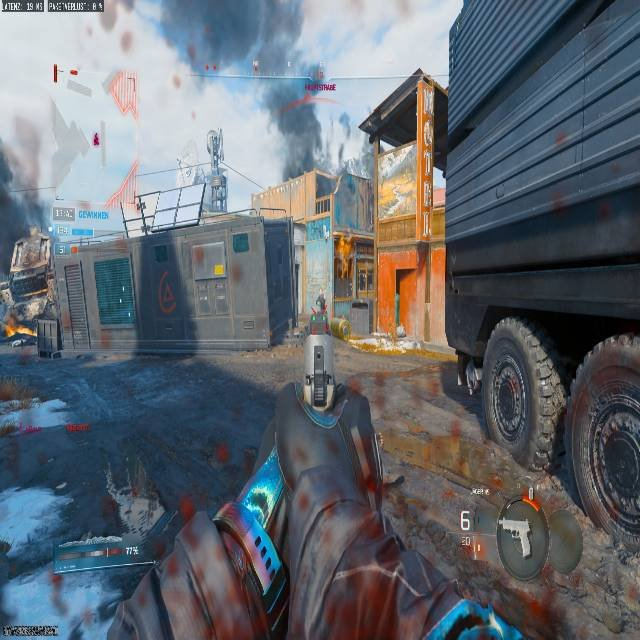head: (25, 226, 47, 245)
player: (0, 227, 58, 360), (313, 294, 326, 318)
